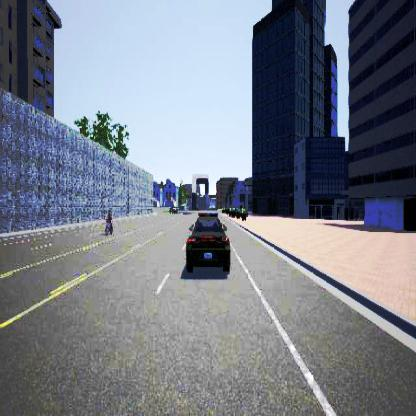bike: (104, 209, 114, 235)
vehicle: (186, 212, 230, 272)
